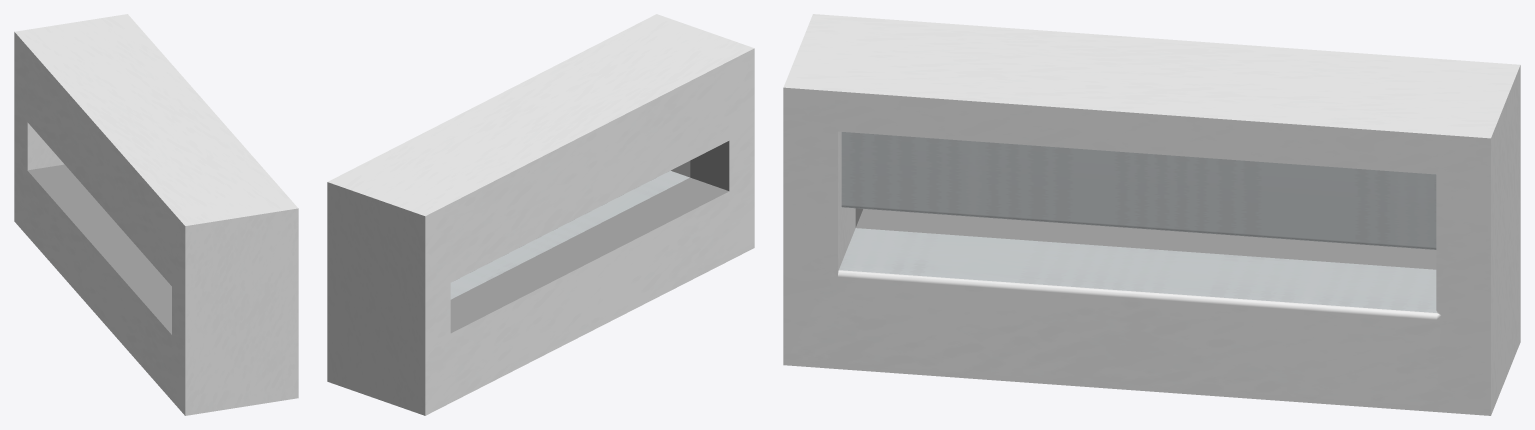
Rendered from cafefoodreturn 1.fbx.
3 renders of one model, left to right at view 1: azimuth 30°, elevation 25°; view 2: azimuth 150°, elevation 25°; view 3: azimuth 270°, elevation 25°, orthographic. The views are drawn at different scales.
Parts seen in each view (by area): view 1: cafecounter:pCube1; view 2: cafecounter:pCube1; view 3: cafecounter:pCube1.
Boxes of the visible parts, x1=… form: cafecounter:pCube1: x1=14, y1=14, x2=298, y2=415; cafecounter:pCube1: x1=327, y1=14, x2=754, y2=415; cafecounter:pCube1: x1=783, y1=14, x2=1520, y2=415.
Bounding box in the file's own units: 449 × 467 × 1124.
Materials: 3 (2 with a texture image).
